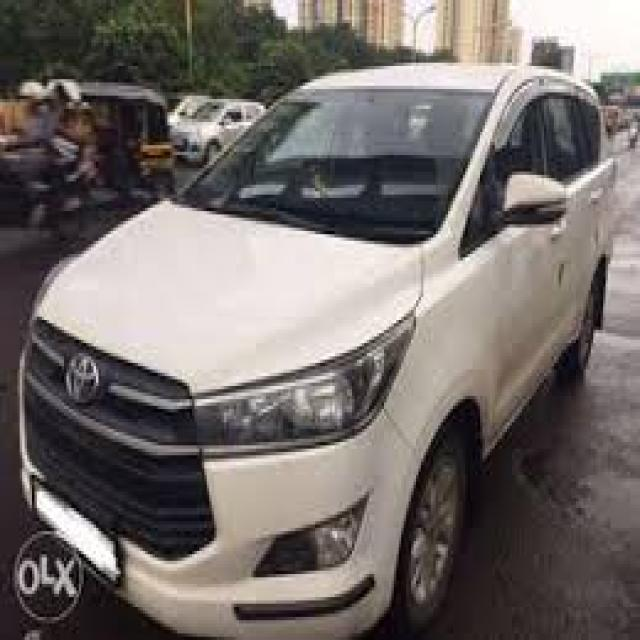light_vehicle: (18, 62, 616, 640)
